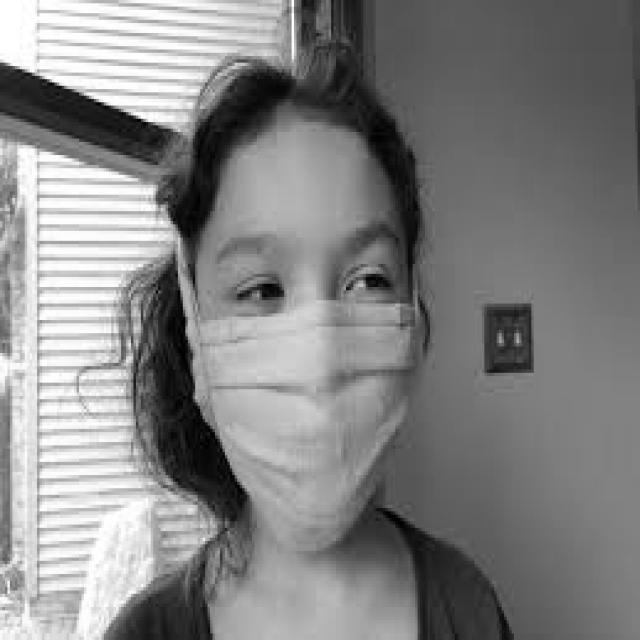with_mask: (173, 231, 430, 551)
